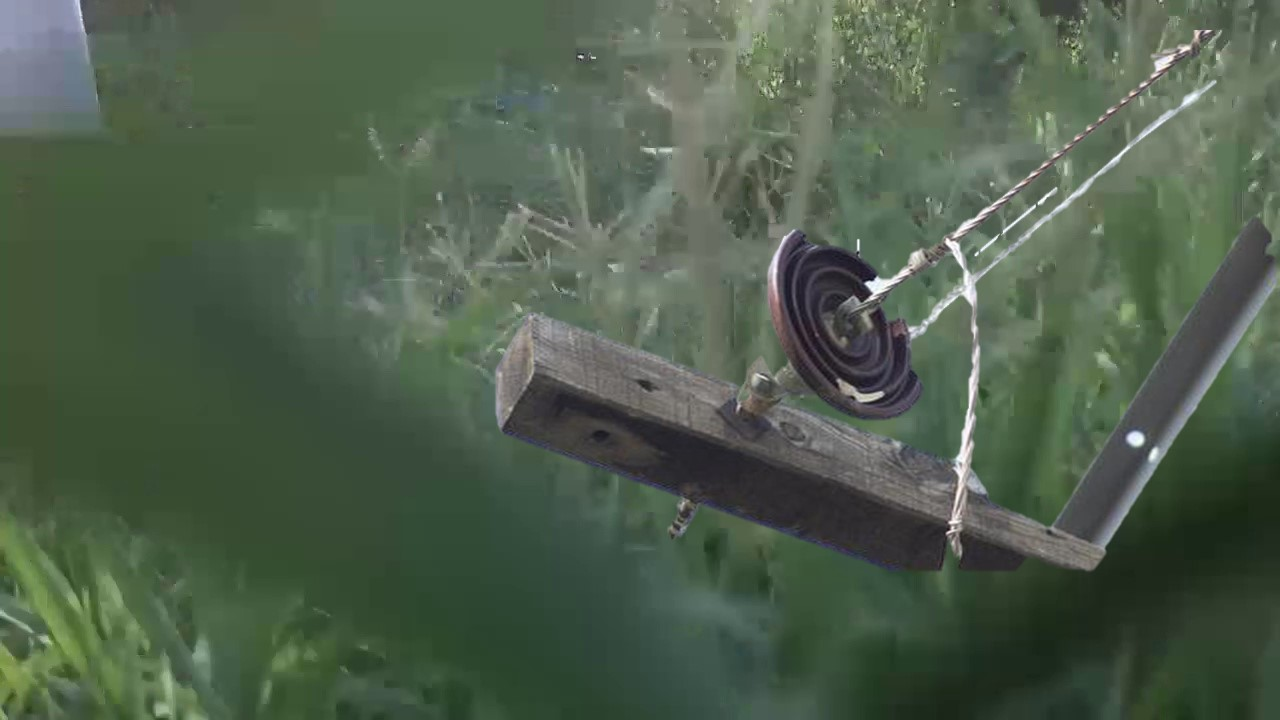defect_disc: (763, 219, 938, 431)
